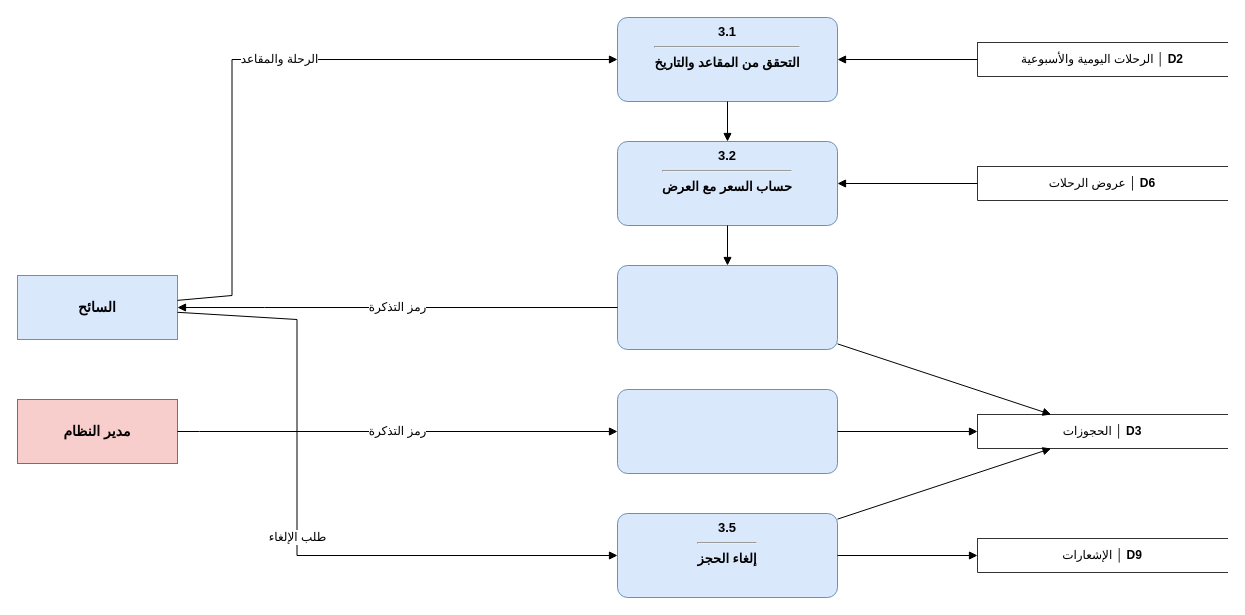
Some shapes in this 1245 by 615 pixel diagram are drawn without their labels. Each missing label, with the centre of its shape:
3.3 تسجيل الحجز وإصدار التذكرة: [727,307]
3.4 تأكيد الدفع وتسجيل الحضور: [727,431]
